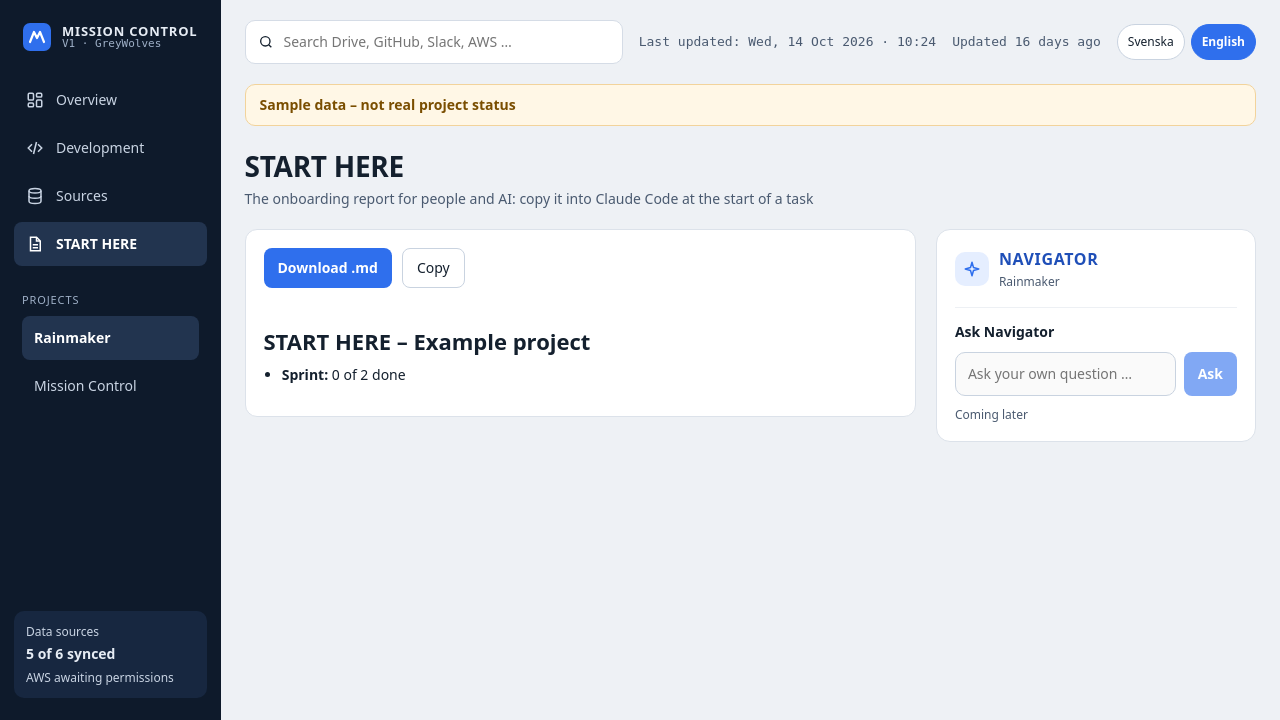
Test: START HERE page › copies the exact file content
Click the button "Copy": point(433, 268) 402,248 -> 465,288
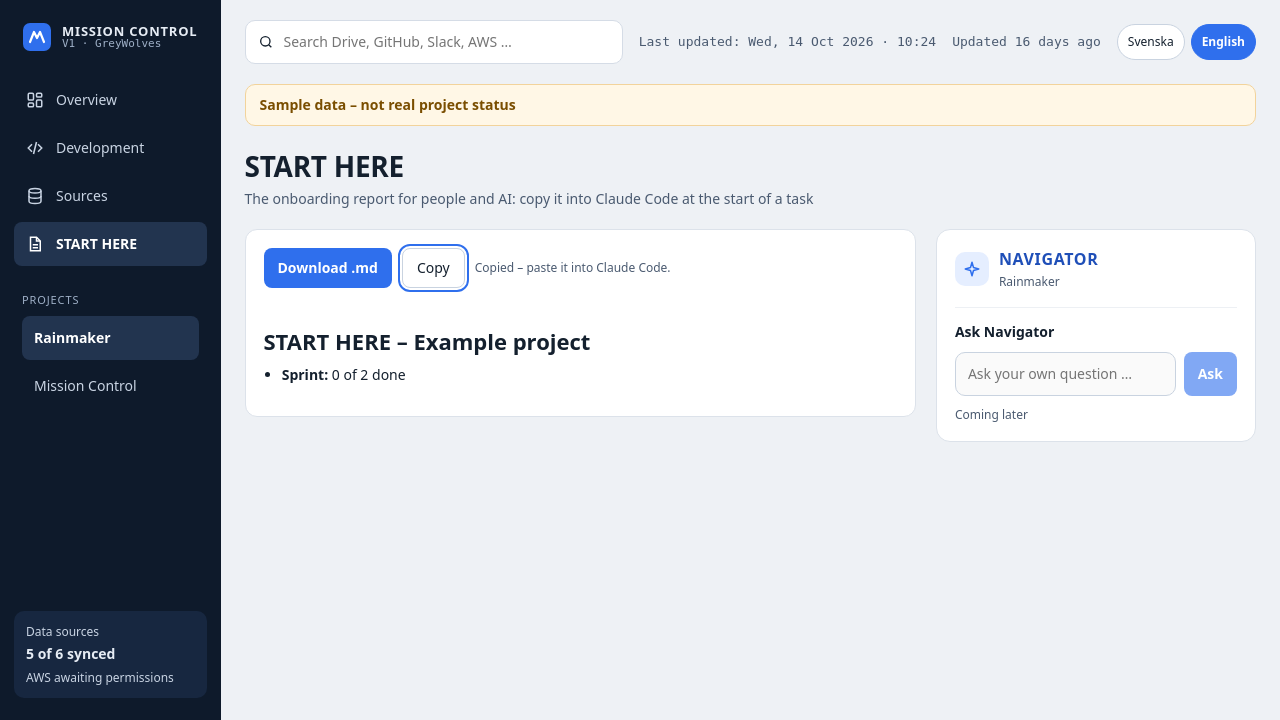
Result: the message shows "Copied" at 475,260 -> 671,276
